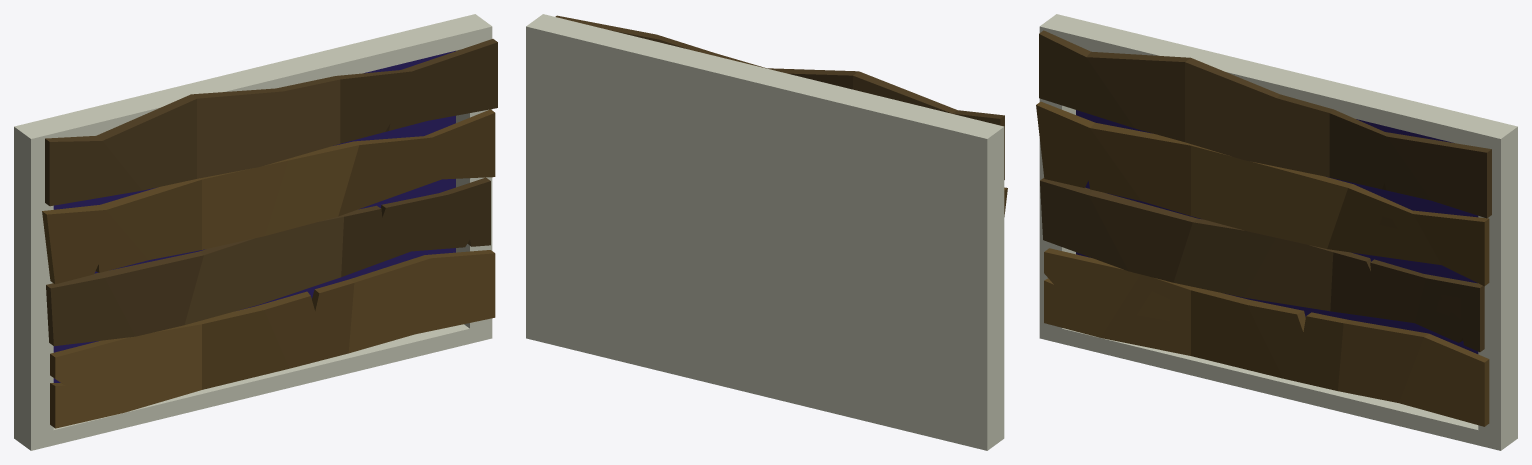
File: Window1.fbx
3 renders of one model, left to right at view 1: azimuth 30°, elevation 25°; view 2: azimuth 150°, elevation 25°; view 3: azimuth 330°, elevation 25°, orthographic.
Visible parts, largest first — view 1: Cube.001; view 2: Cube.001; view 3: Cube.001.
Boxes of the visible parts, x1=… form: Cube.001: x1=14, y1=14, x2=497, y2=450; Cube.001: x1=526, y1=14, x2=1007, y2=450; Cube.001: x1=1036, y1=14, x2=1517, y2=450.
Size of the model in its own units: 1501 by 1000 by 190.
